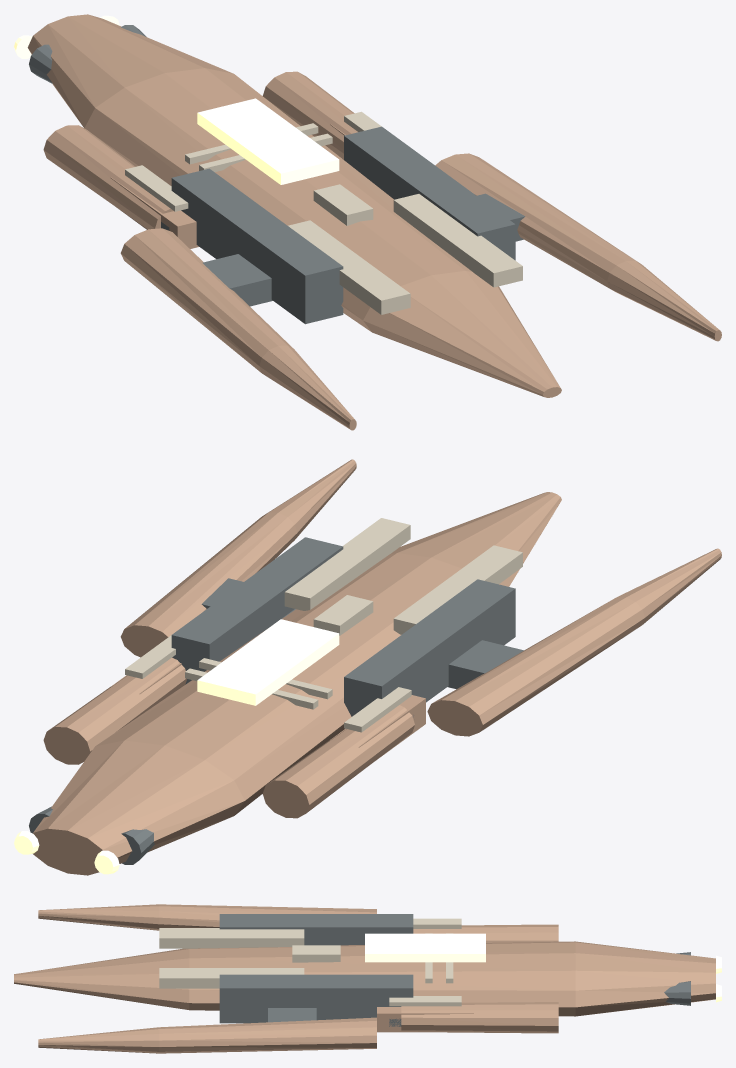
3 views of the same model, one above another, from view 1: azimuth 30°, elevation 25°; view 2: azimuth 150°, elevation 25°; view 3: azimuth 270°, elevation 25° (orthographic). The views are drawn at different scales.
Size of the model in its own units: 5.6 by 1.17 by 12.29.
